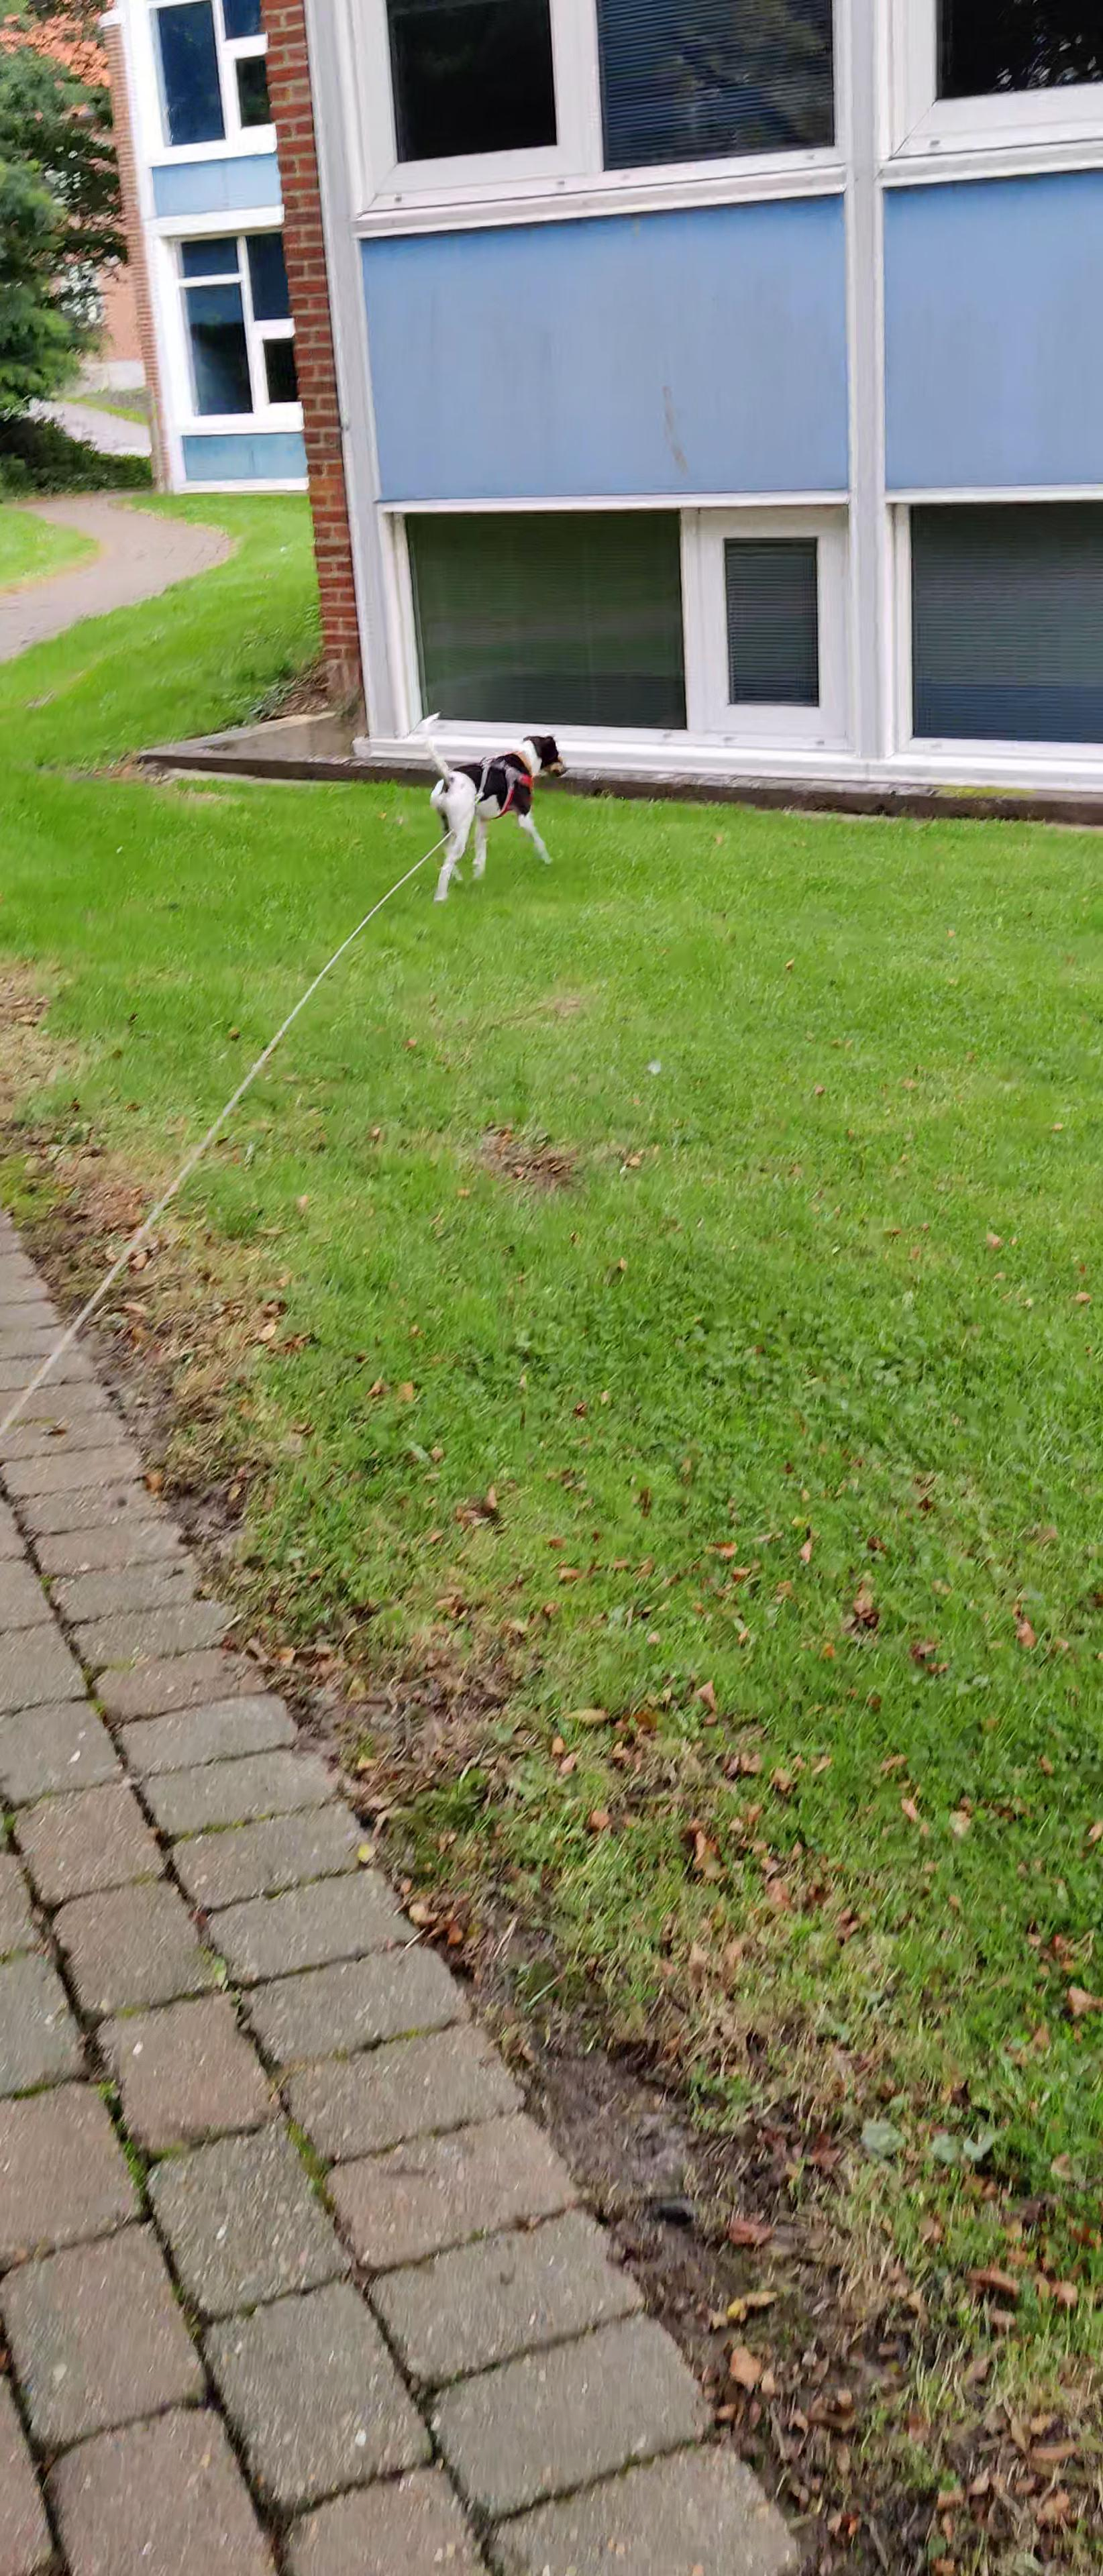Dog: (418, 710, 570, 900)
